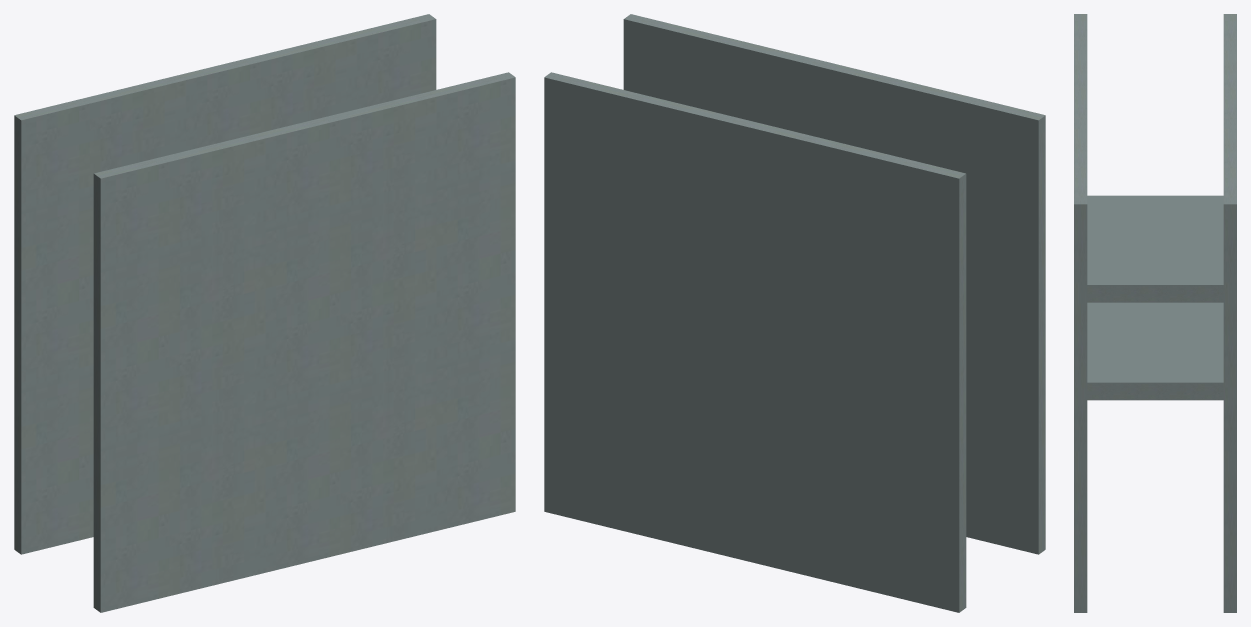
File: azdz001-geode.glb
3 views of the same model, side by side, from view 1: azimuth 30°, elevation 25°; view 2: azimuth 150°, elevation 25°; view 3: azimuth 270°, elevation 25° (orthographic). The views are drawn at different scales.
Visible parts, largest first — view 1: Node; view 2: Node; view 3: Node.
Part boxes in pixels (x1,y1,x2,y2): Node: [14, 14, 515, 612]; Node: [544, 14, 1045, 612]; Node: [1074, 14, 1236, 612].
Bounding box in the file's own units: 0.3551 × 0.3551 × 0.1284.
1 material, 1 textured.
